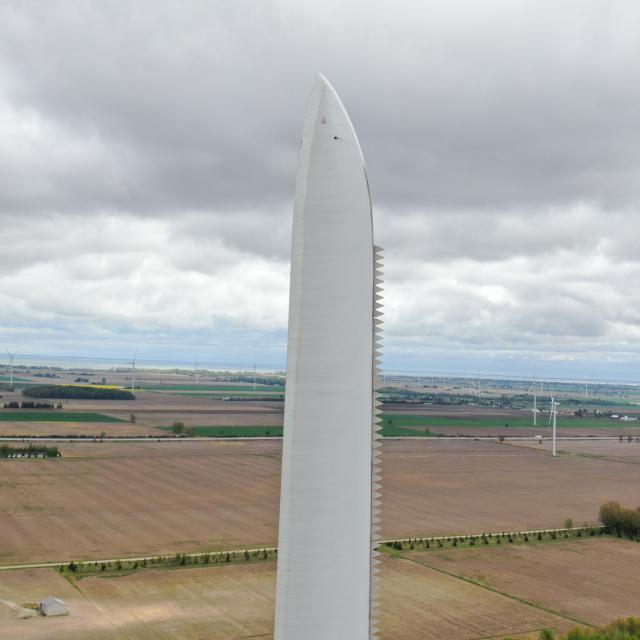damage: (333, 130, 342, 144)
